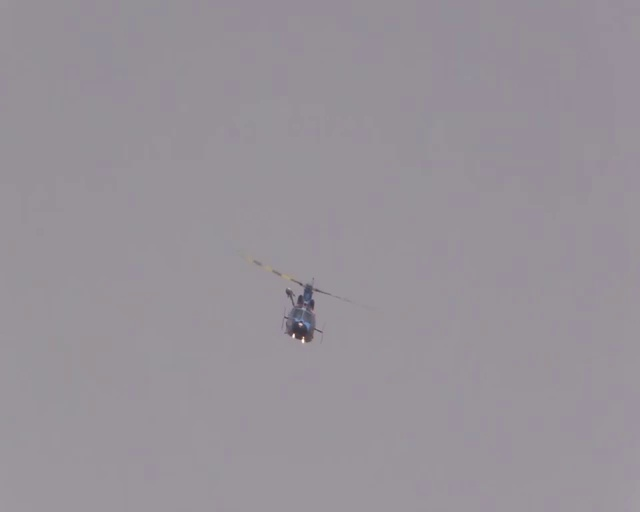HELICOPTER: (251, 258, 355, 344)
